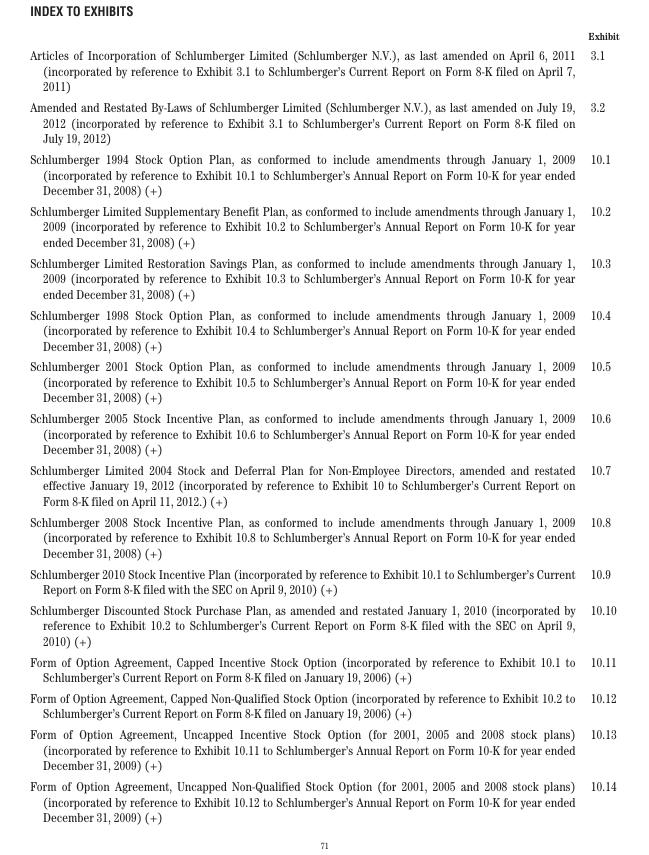table: (29, 28, 618, 824)
table column: (29, 28, 580, 824), (580, 28, 618, 824)
table column header: (29, 28, 618, 44)
table row: (29, 44, 618, 96), (29, 96, 618, 148), (29, 199, 618, 251), (29, 251, 618, 303), (29, 303, 618, 355), (29, 355, 618, 407), (29, 458, 618, 510), (29, 510, 618, 562), (29, 598, 618, 650), (29, 723, 618, 775), (29, 148, 618, 199), (29, 407, 618, 458), (29, 775, 618, 824), (29, 650, 618, 687), (29, 562, 618, 598), (29, 687, 618, 723), (29, 28, 618, 44)
